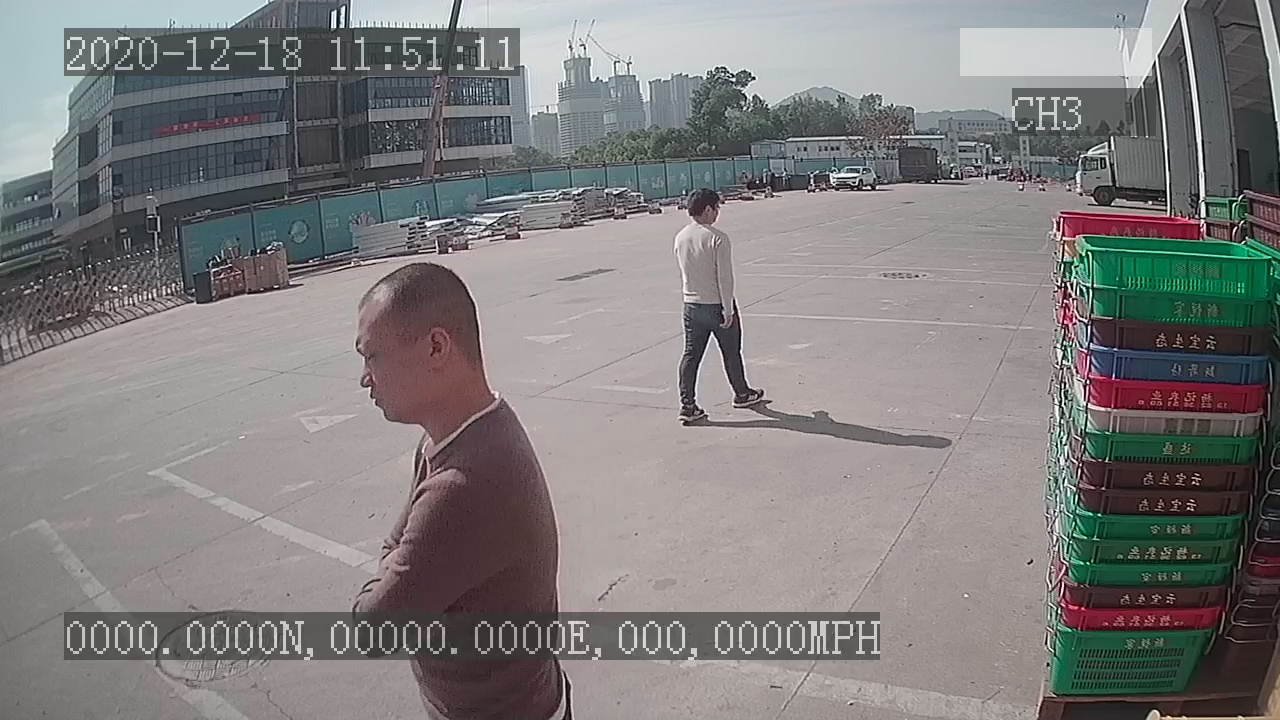person: (667, 179, 774, 427)
